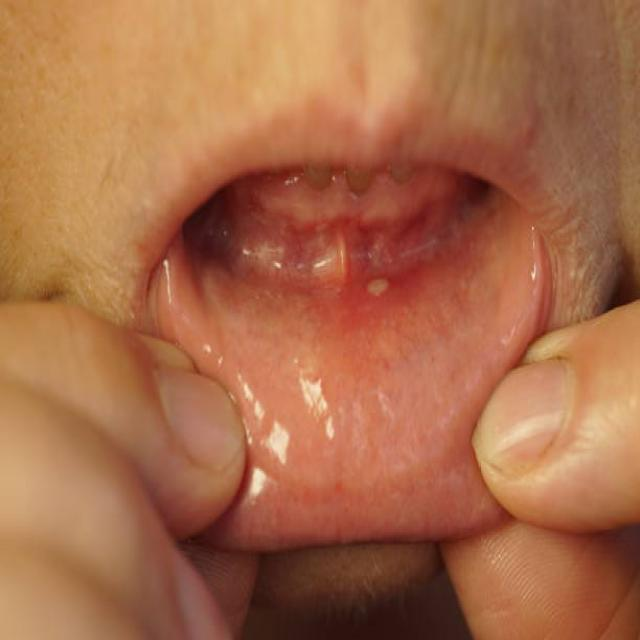processing_area: (160, 165, 538, 545)
ulcer-detection: (354, 233, 419, 319)
